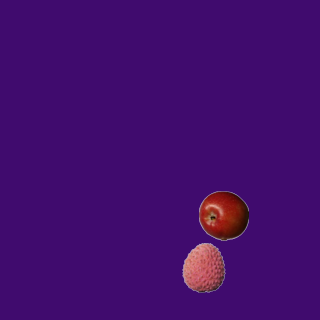Apple Braeburn: (198, 190, 248, 240)
Lychee: (178, 242, 228, 292)
